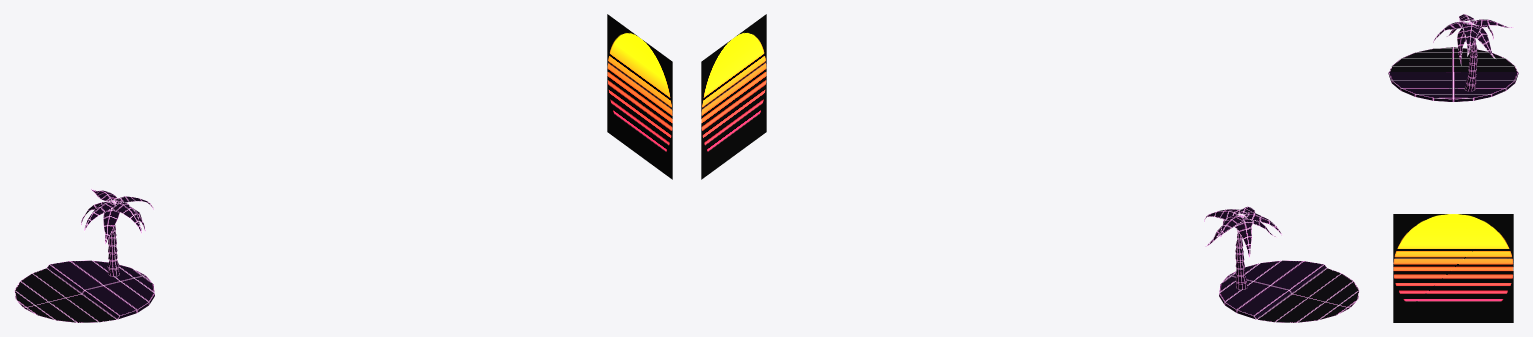
The picture shows the model from 3 angles, left to right: view 1: azimuth 30°, elevation 25°; view 2: azimuth 150°, elevation 25°; view 3: azimuth 270°, elevation 25°; orthographic projection. The views are drawn at different scales.
Visible parts, largest first — view 1: plane_soleil, route, tronc; view 2: plane_soleil, route, tronc; view 3: plane_soleil, route, tronc, Feuille_6, Feuille_3, Feuille_7, Feuille_8, Feuille_2.
Boxes of the visible parts, left/top/right/bottom form: plane_soleil: left=607, top=14, right=672, bottom=179; route: left=14, top=260, right=154, bottom=322; tronc: left=107, top=201, right=119, bottom=276; plane_soleil: left=701, top=14, right=766, bottom=179; route: left=1219, top=260, right=1359, bottom=322; tronc: left=1235, top=214, right=1247, bottom=289; plane_soleil: left=1393, top=214, right=1513, bottom=322; route: left=1388, top=47, right=1518, bottom=102; tronc: left=1464, top=22, right=1477, bottom=91; Feuille_6: left=1462, top=24, right=1480, bottom=56; Feuille_3: left=1473, top=25, right=1495, bottom=58; Feuille_7: left=1457, top=28, right=1465, bottom=65; Feuille_8: left=1472, top=19, right=1514, bottom=27; Feuille_2: left=1433, top=21, right=1467, bottom=45.
Size of the model in its own units: 120 by 22.33 by 23.86.
Materials: 5 (5 with a texture image).
